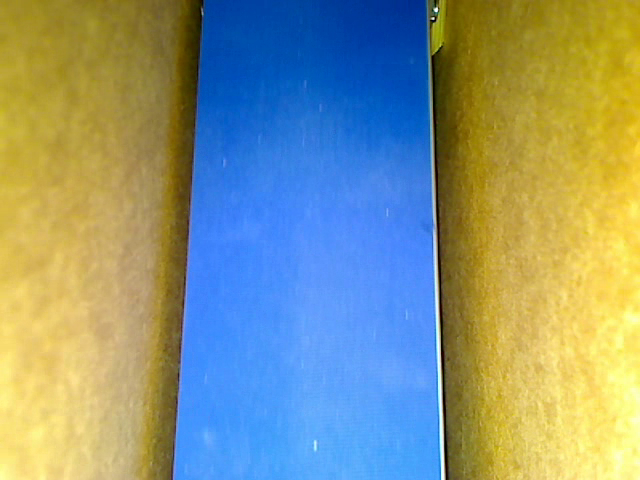penne: (426, 1, 445, 63)
